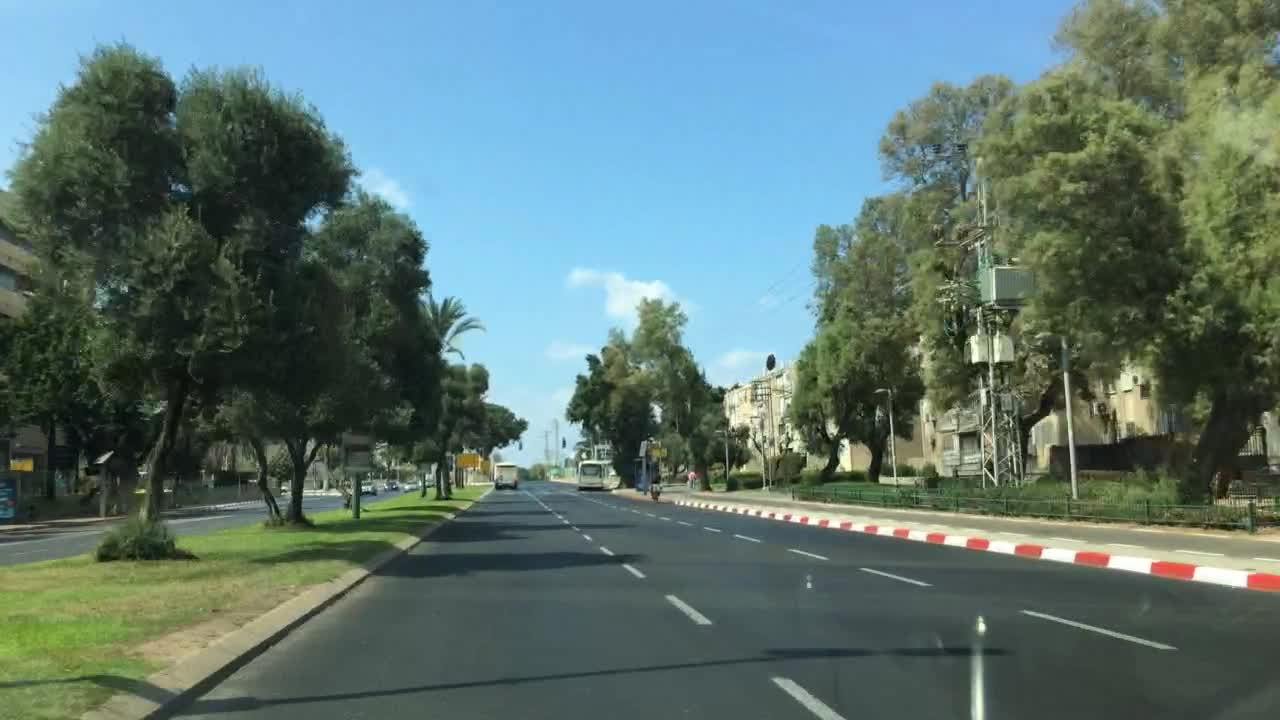bus: (578, 461, 615, 491), (493, 464, 520, 490)
car: (361, 482, 378, 498), (400, 482, 420, 494), (386, 478, 398, 493)
person: (685, 467, 696, 489)
traffic light: (513, 439, 523, 453), (559, 436, 566, 451)
traffic sign: (454, 451, 478, 470)
